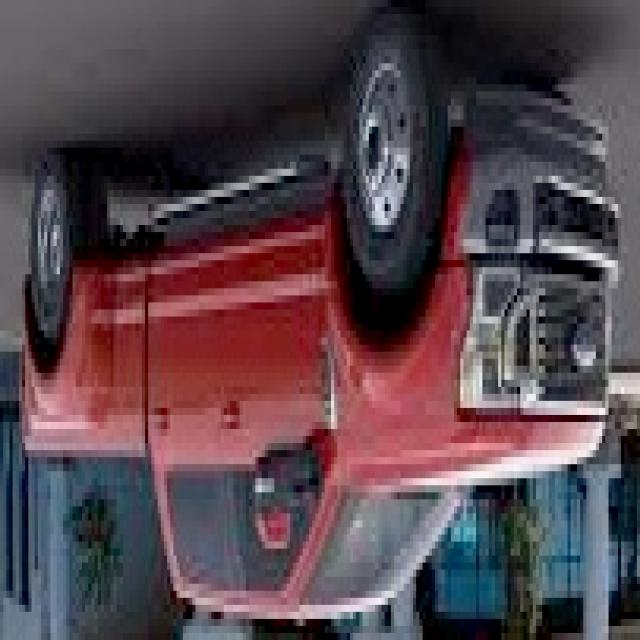red: (0, 90, 605, 615)
